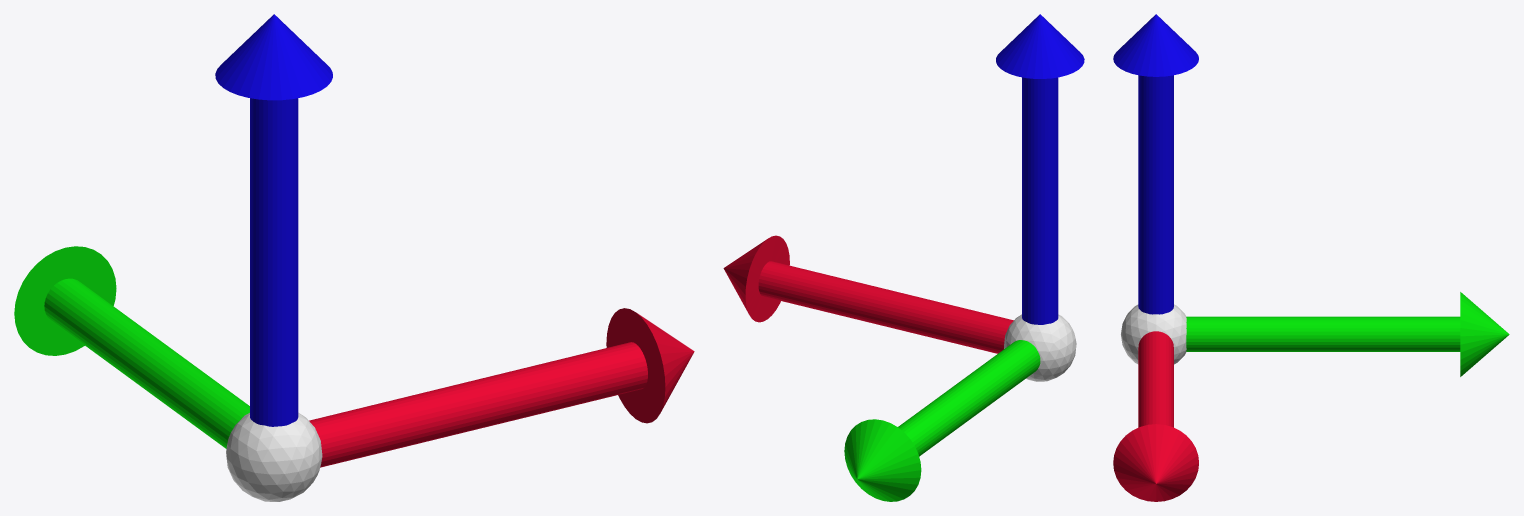
File: CoordArrows.fbx
3 renders of one model, left to right at view 1: azimuth 30°, elevation 25°; view 2: azimuth 150°, elevation 25°; view 3: azimuth 270°, elevation 25°, orthographic. The views are drawn at different scales.
Visible parts, largest first — view 1: Cylinder, Cylinder.001, Cylinder.002, Icosphere; view 2: Cylinder, Cylinder.001, Cylinder.002, Icosphere; view 3: Cylinder.002, Cylinder, Cylinder.001, Icosphere.
Part boxes in pixels (x1=…): Cylinder: x1=215, y1=14, x2=332, y2=426; Cylinder.001: x1=309, y1=308, x2=694, y2=467; Cylinder.002: x1=14, y1=246, x2=249, y2=448; Icosphere: x1=226, y1=412, x2=322, y2=501; Cylinder: x1=996, y1=14, x2=1084, y2=324; Cylinder.001: x1=723, y1=235, x2=1013, y2=353; Cylinder.002: x1=844, y1=340, x2=1040, y2=501; Icosphere: x1=1004, y1=314, x2=1076, y2=381; Cylinder.002: x1=1186, y1=292, x2=1509, y2=376; Cylinder: x1=1113, y1=14, x2=1198, y2=314; Cylinder.001: x1=1113, y1=331, x2=1198, y2=501; Icosphere: x1=1121, y1=304, x2=1186, y2=364.
Size of the model in its own units: 224 by 224 by 224.
